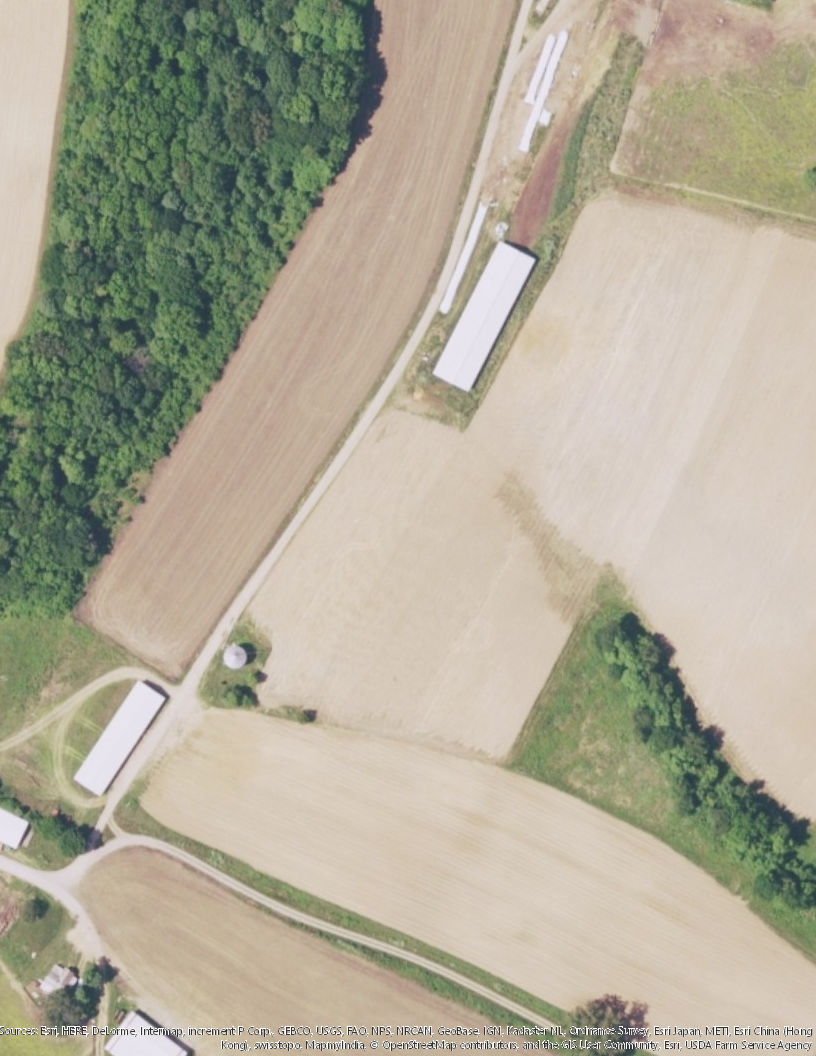cafo: (423, 235, 550, 403), (62, 672, 177, 801)
